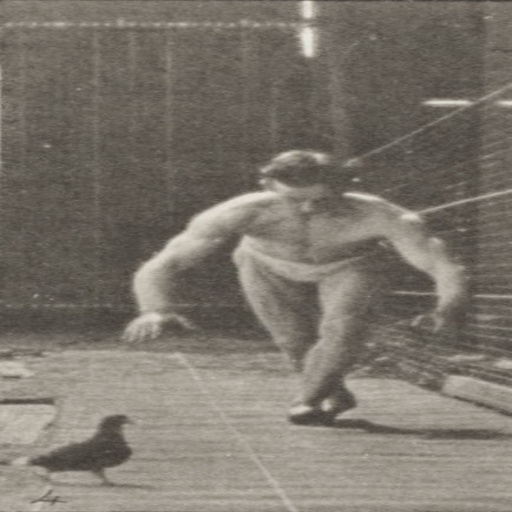hand: (120, 309, 199, 344), (412, 311, 457, 335)
